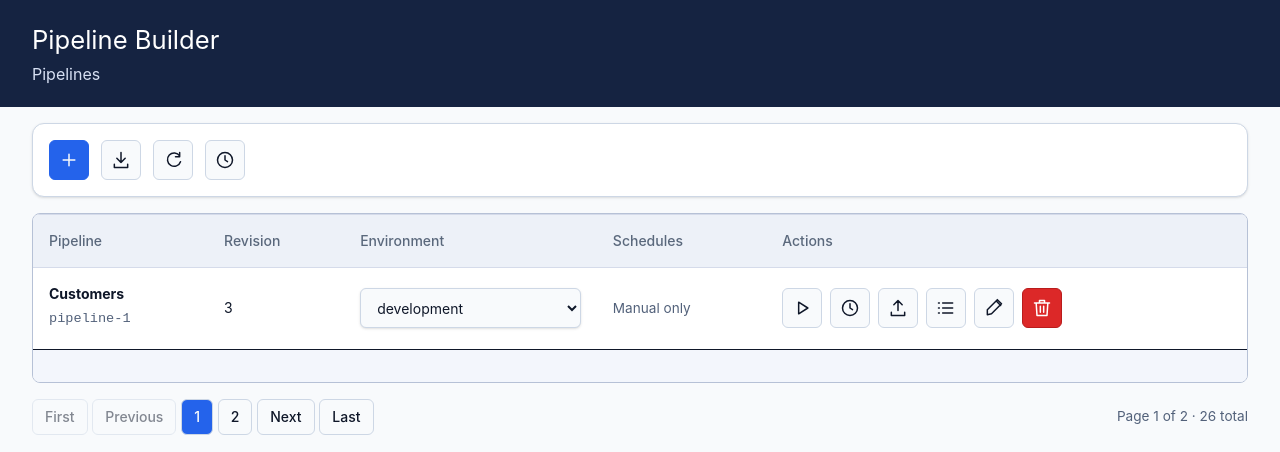
it: loads subsequent pages
Check: the text "Customers" is shown, box [49,285,124,302]
What coordinates should you click on to do the following:
click the button with aria-label "Next page"
I would click on:
 (286, 417)
Its box is [257,399,314,435].
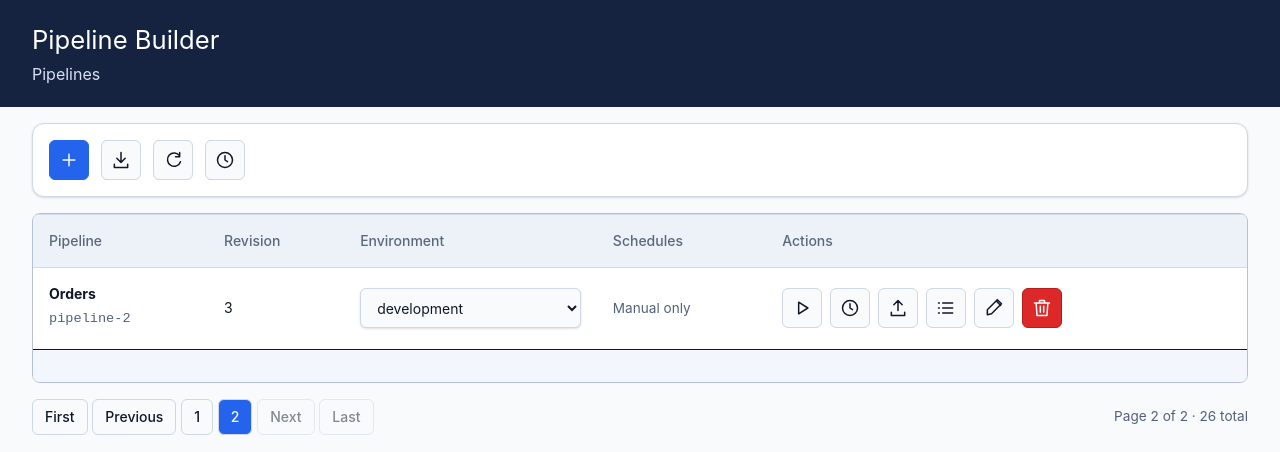
Check: the text "Orders" is shown, box [49,285,96,302]
Check: the text "Page 2 of 2 · 26 total" is shown, box [1114,406,1248,427]
Check: the button with aria-label "Next page" is disabled, box [257,399,314,435]
